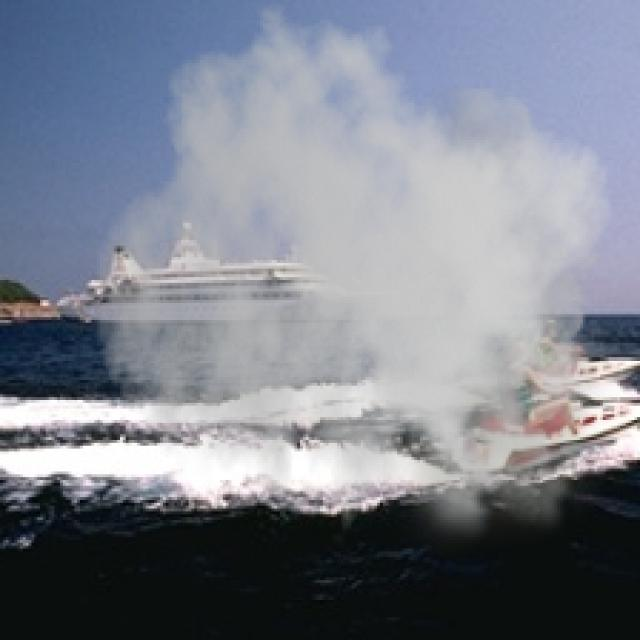smoke: (94, 3, 629, 566)
